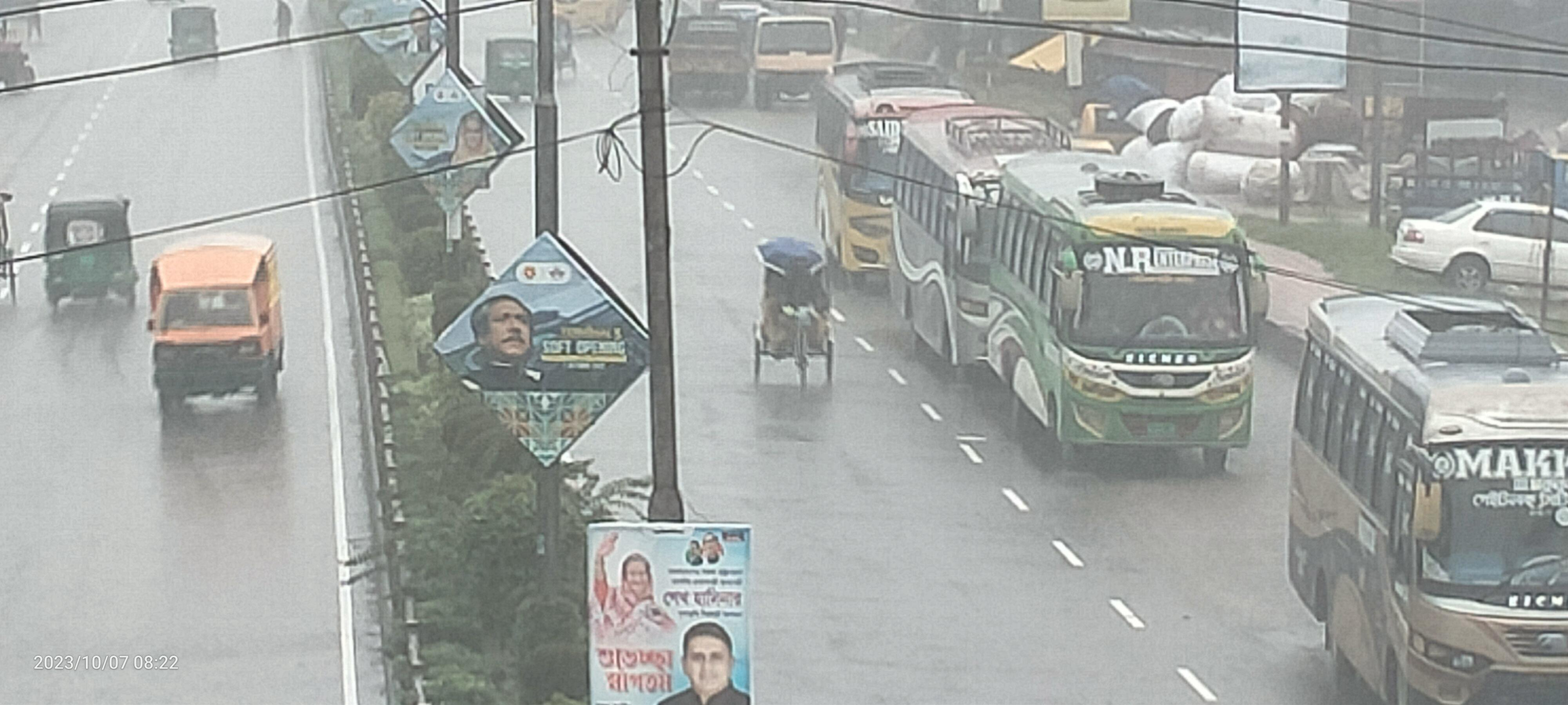Bus: (1262, 262, 1568, 705), (953, 139, 1284, 512), (869, 80, 1040, 389), (786, 42, 939, 306)
Car: (133, 216, 309, 446), (1369, 158, 1568, 326), (720, 219, 862, 412)
Truck: (739, 0, 851, 128), (646, 2, 764, 118)
